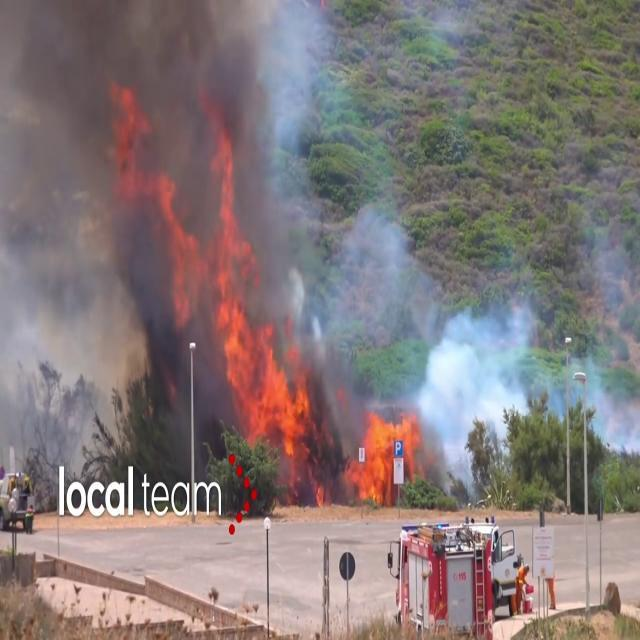Fire: (213, 278, 311, 468), (351, 405, 419, 508)
Smoke: (1, 0, 357, 480), (292, 197, 640, 480)
